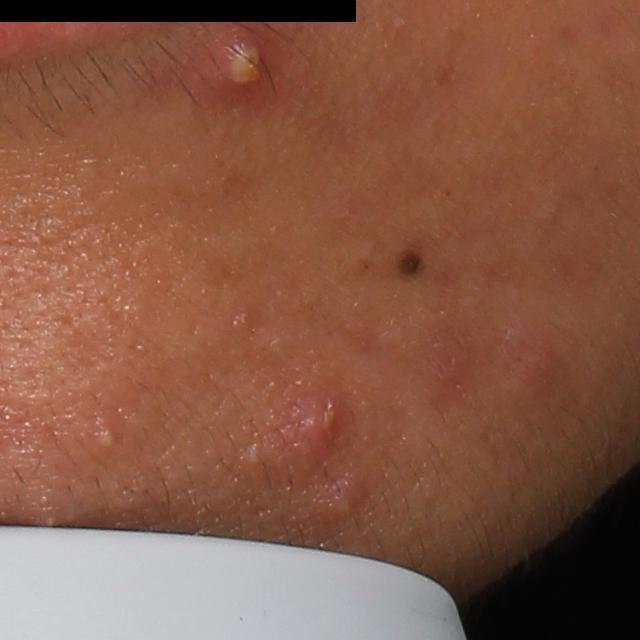nevus: (392, 247, 424, 281)
papule: (274, 390, 348, 474), (497, 318, 562, 397), (312, 472, 375, 527)
pustule: (202, 30, 282, 97), (87, 416, 126, 454)
